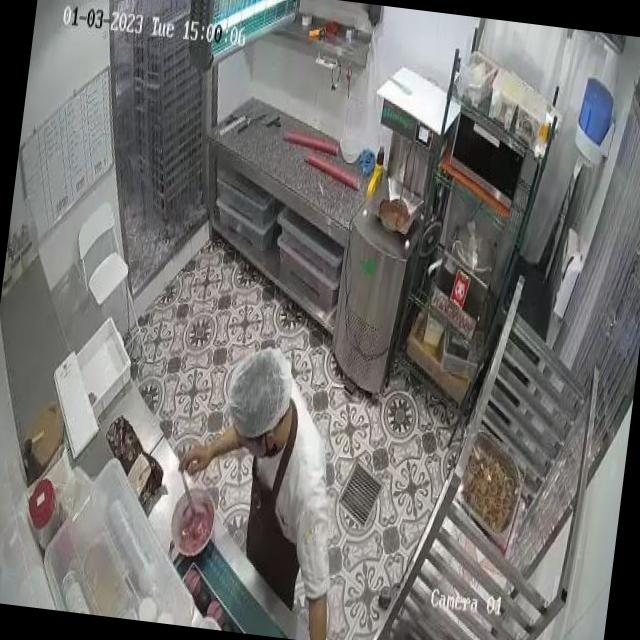hairnet: (227, 344, 296, 439)
